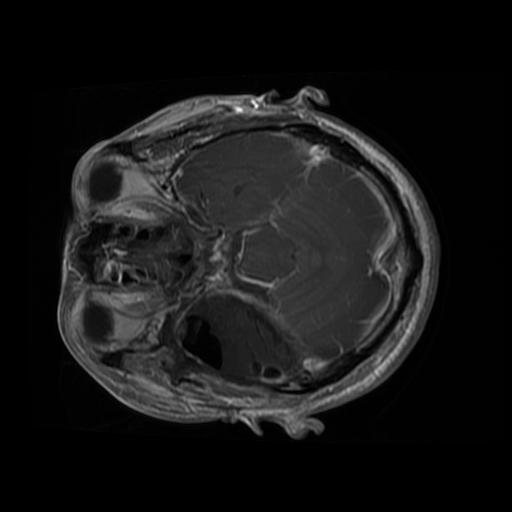glioma: (175, 297, 300, 389)
